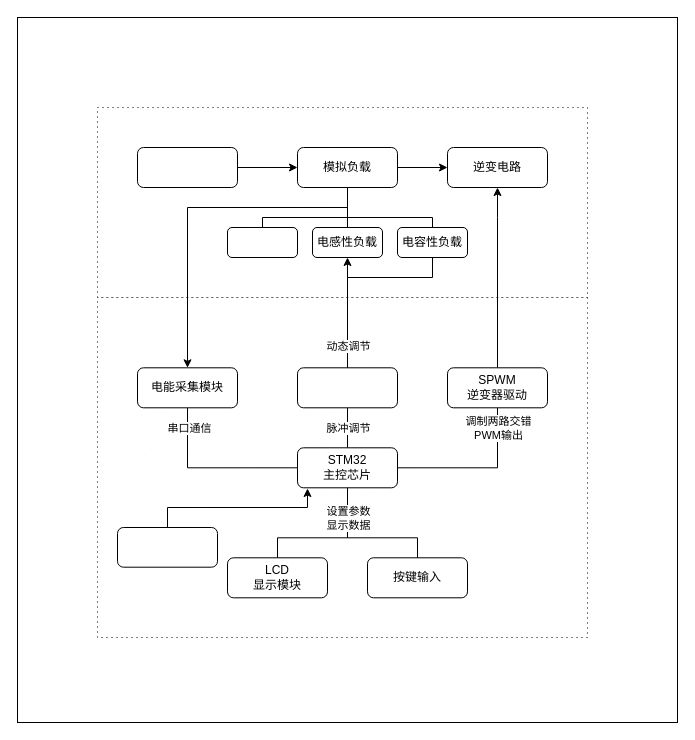
Some shapes in this 695 by 740 pixel diagram are drawn without their labels. The shapes that lost their labels are listed below. From the top down, each one's centre as x and y in pixels, then its label:
At point (187, 167): "交流电源".
At point (262, 242): "阻性负载".
At point (347, 387): "数字电位器".
At point (167, 546): "航模电池供电".
